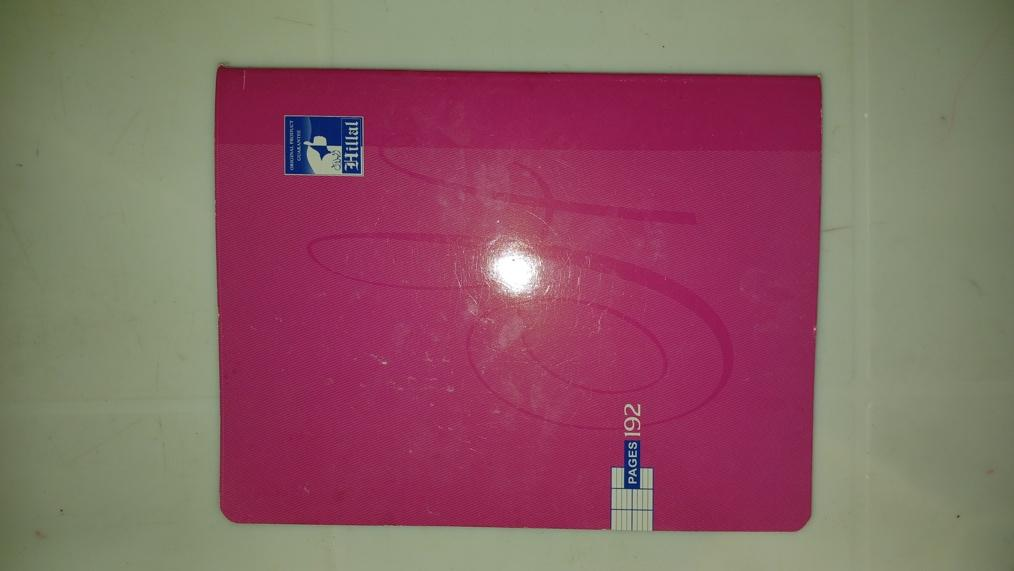notebook: (217, 74, 823, 526)
